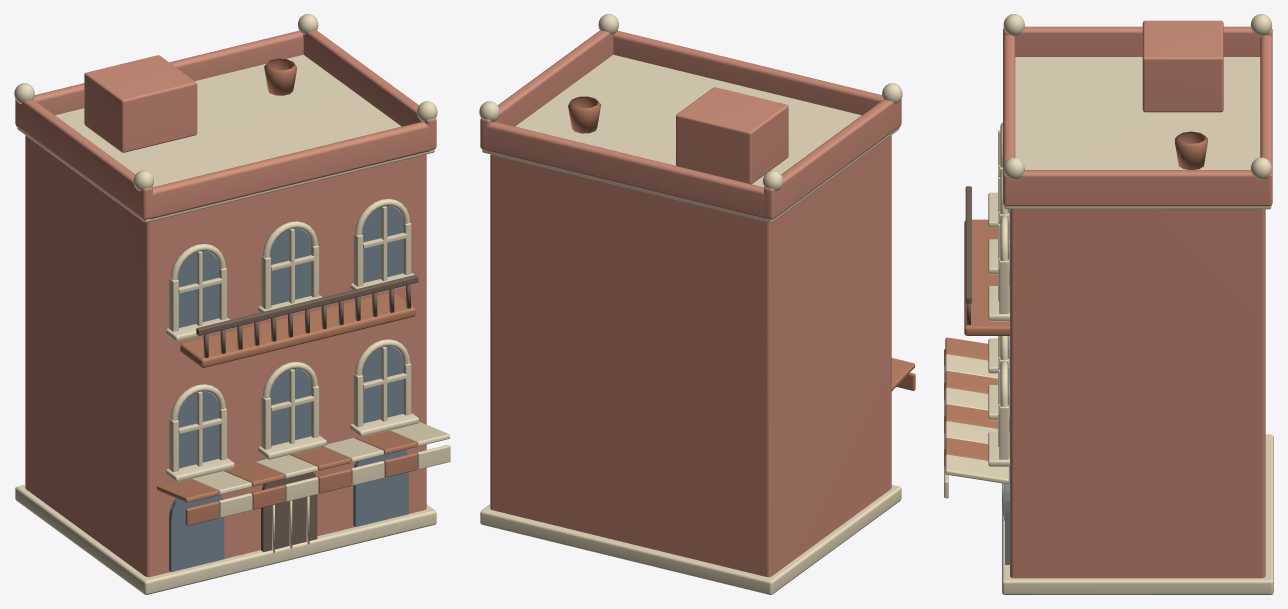
Rendered from townhouse.glb.
3 renders of one model, left to right at view 1: azimuth 30°, elevation 25°; view 2: azimuth 150°, elevation 25°; view 3: azimuth 270°, elevation 25°, orthographic. The views are drawn at different scales.
Parts seen in each view (by area): view 1: townhouse__Dye_Main_townhouse, townhouse__Limestone_trim, townhouse__Blue_window, townhouse__Terra_cotta, townhouse__Walnut_door; view 2: townhouse__Dye_Main_townhouse, townhouse__Limestone_trim, townhouse__Terra_cotta; view 3: townhouse__Dye_Main_townhouse, townhouse__Limestone_trim, townhouse__Terra_cotta, townhouse__Walnut_door, townhouse__Blue_window.
Boxes of the visible parts, left/top/right/bottom form: townhouse__Dye_Main_townhouse: left=15, top=30, right=436, bottom=577; townhouse__Limestone_trim: left=14, top=14, right=450, bottom=594; townhouse__Blue_window: left=169, top=206, right=408, bottom=571; townhouse__Terra_cotta: left=156, top=58, right=417, bottom=525; townhouse__Walnut_door: left=196, top=275, right=418, bottom=552; townhouse__Dye_Main_townhouse: left=480, top=30, right=901, bottom=577; townhouse__Limestone_trim: left=479, top=14, right=902, bottom=594; townhouse__Terra_cotta: left=568, top=96, right=915, bottom=391; townhouse__Dye_Main_townhouse: left=1003, top=20, right=1272, bottom=578; townhouse__Limestone_trim: left=944, top=14, right=1273, bottom=594; townhouse__Terra_cotta: left=944, top=131, right=1207, bottom=466; townhouse__Walnut_door: left=965, top=186, right=1004, bottom=520; townhouse__Blue_window: left=1005, top=209, right=1009, bottom=564.
Bounding box in the file's own units: 4.38 × 6.04 × 4.
